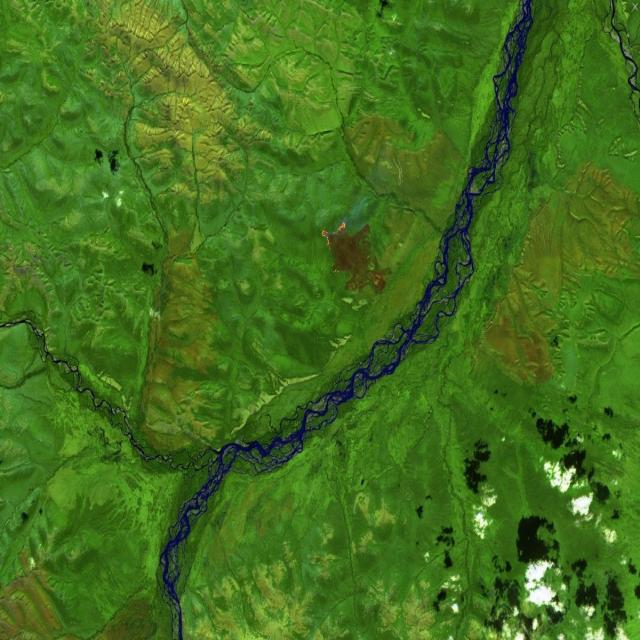fire: (316, 216, 351, 261)
